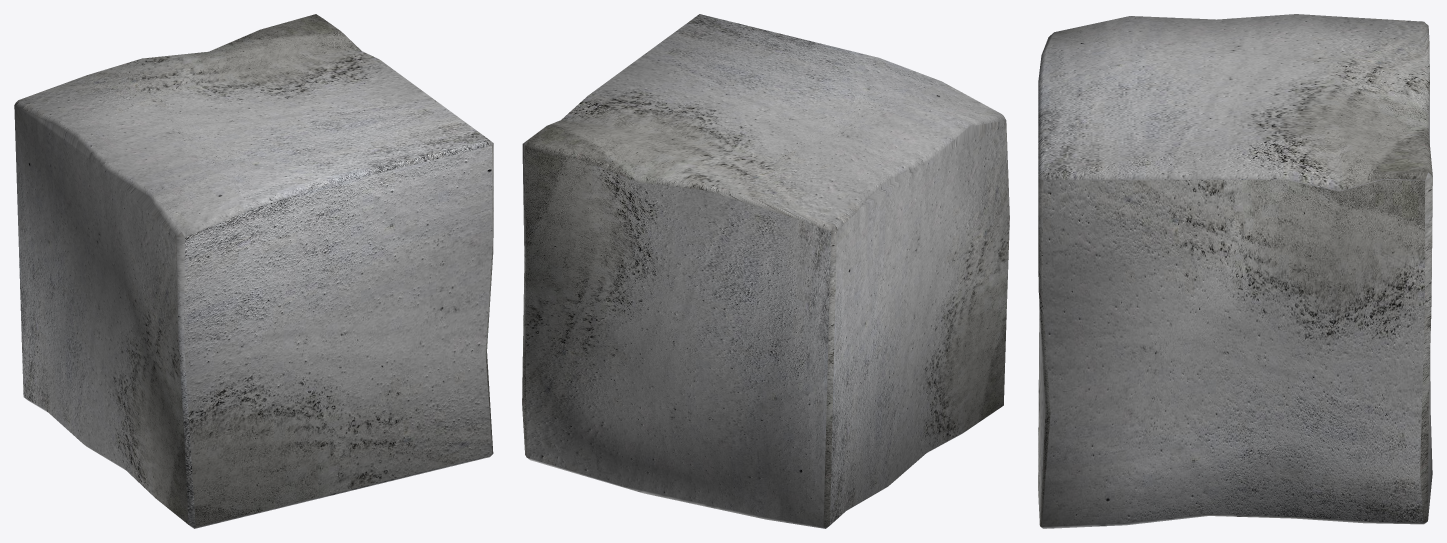
File: stone 1.fbx
3 views of the same model, side by side, from view 1: azimuth 30°, elevation 25°; view 2: azimuth 150°, elevation 25°; view 3: azimuth 270°, elevation 25° (orthographic). The views are drawn at different scales.
Visible parts, largest first — view 1: Cube.001; view 2: Cube.001; view 3: Cube.001.
Boxes of the visible parts, <box> form: Cube.001: <box>14,14,493,528</box>; Cube.001: <box>522,14,1009,528</box>; Cube.001: <box>1038,14,1432,528</box>.
Size of the model in its own units: 209 by 201 by 202.
